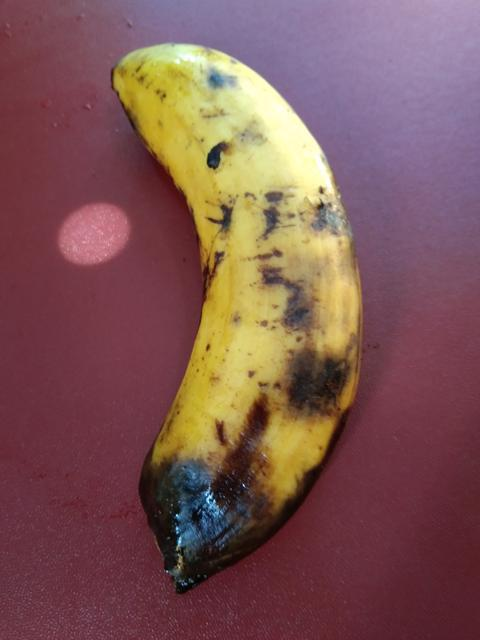overripe: (87, 31, 384, 409)
rotten: (125, 315, 377, 616)
